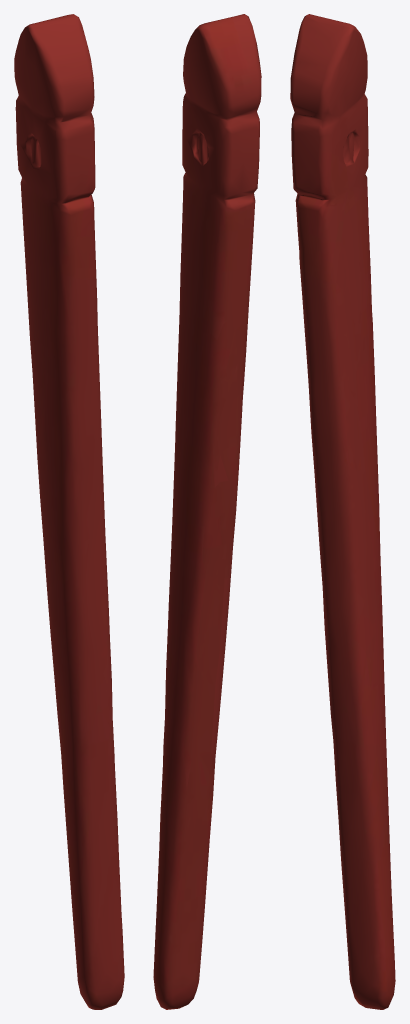
The model's file is stick4.glb.
3 renders of one model, left to right at view 1: azimuth 30°, elevation 25°; view 2: azimuth 210°, elevation 25°; view 3: azimuth 330°, elevation 25°, orthographic. The views are drawn at different scales.
Parts seen in each view (by area): view 1: tripo_node_e6d194fc-54e6-4e54-a7f7-171b992d4b4b; view 2: tripo_node_e6d194fc-54e6-4e54-a7f7-171b992d4b4b; view 3: tripo_node_e6d194fc-54e6-4e54-a7f7-171b992d4b4b.
Part boxes in pixels (x1,y1,x2,y2): tripo_node_e6d194fc-54e6-4e54-a7f7-171b992d4b4b: [14, 14, 124, 1009]; tripo_node_e6d194fc-54e6-4e54-a7f7-171b992d4b4b: [153, 14, 261, 1009]; tripo_node_e6d194fc-54e6-4e54-a7f7-171b992d4b4b: [290, 14, 395, 1009].
Bounding box in the file's own units: 0.0688 × 0.72 × 0.0619.
1 material, 1 textured.
